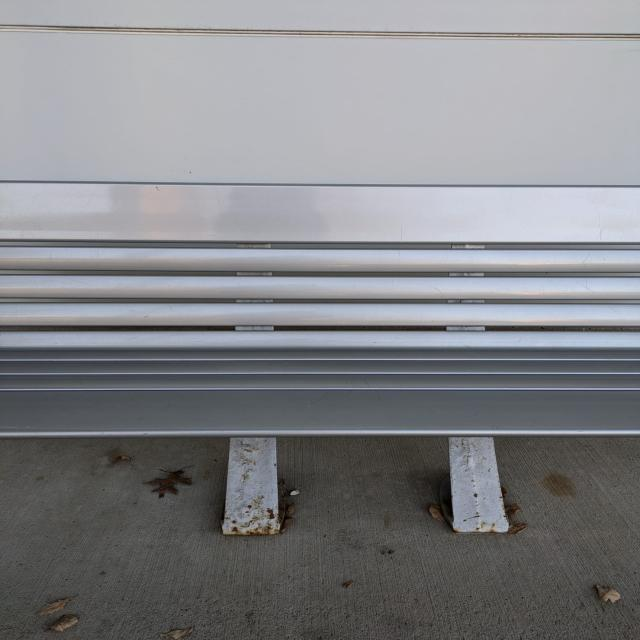Uniform Corrosion: (223, 499, 281, 536)
